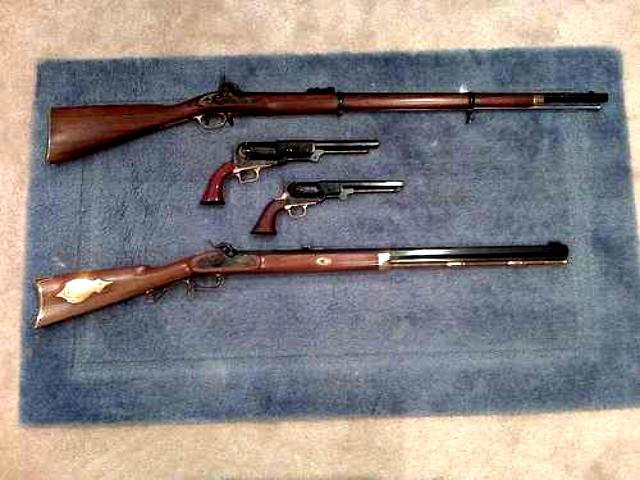rifle: (32, 195, 582, 366), (40, 60, 624, 170)
